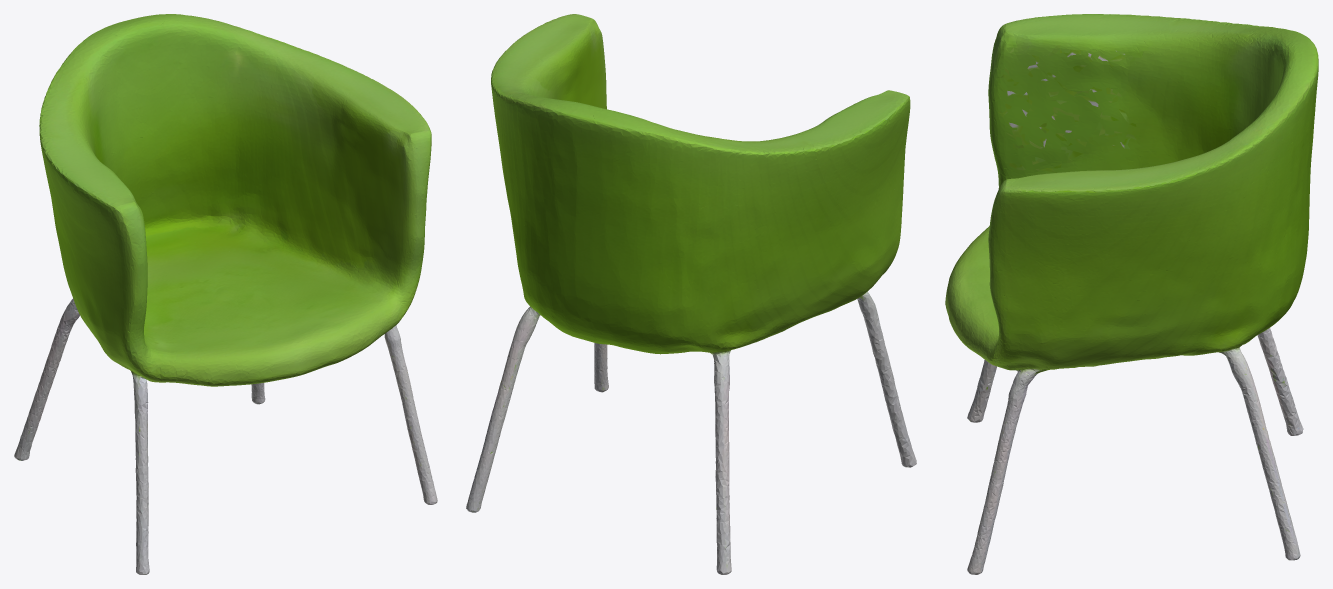
File: NMK.2005.0581_textured.glb
The picture shows the model from 3 angles, left to right: view 1: azimuth 30°, elevation 25°; view 2: azimuth 150°, elevation 25°; view 3: azimuth 270°, elevation 25°; orthographic projection. The views are drawn at different scales.
Visible parts, largest first — view 1: world; view 2: world; view 3: world.
Part boxes in pixels (x1,y1,x2,y2): world: (14,14,437,574); world: (466,14,916,574); world: (945,14,1318,574).
Size of the model in its own units: 1.72 by 1.99 by 1.53.
Materials: 1 (1 with a texture image).
